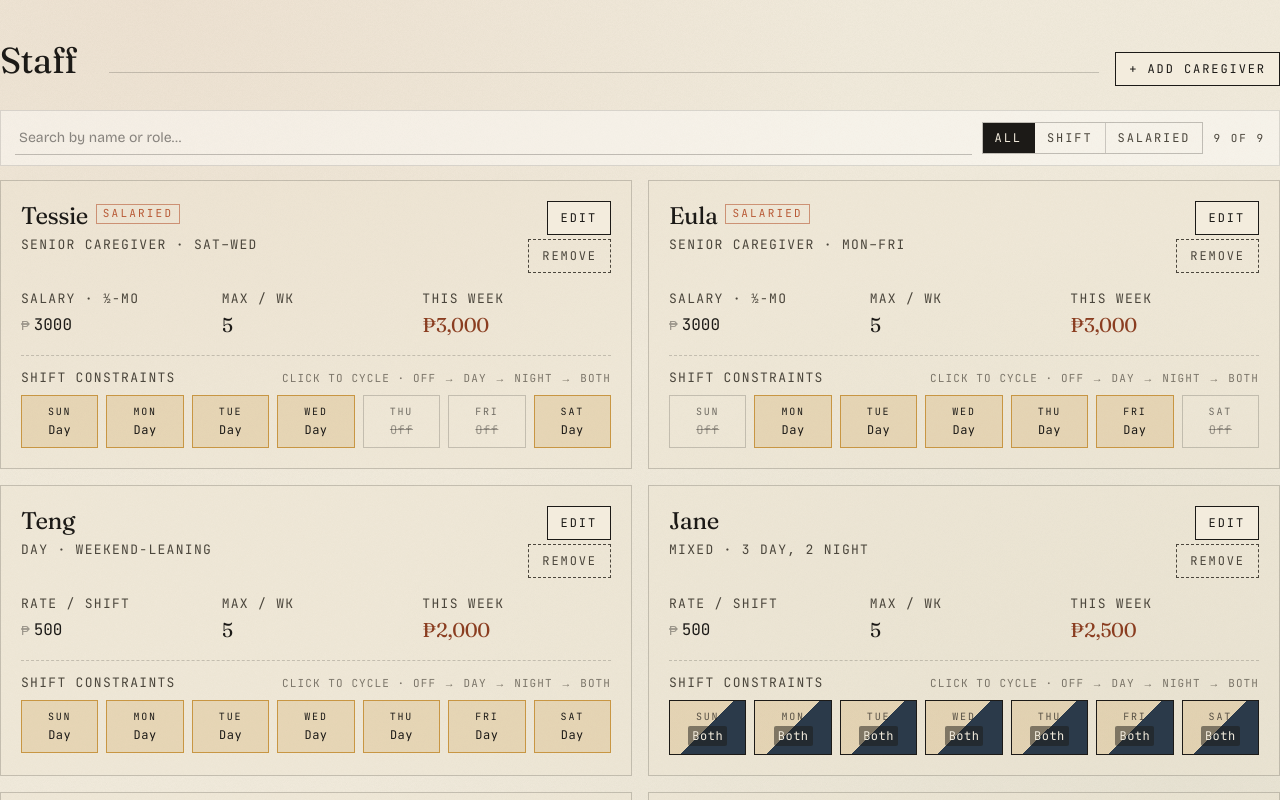
Test: <StaffPanel /> › clicking + add caregiver opens the modal
The width and height of the screenshot is (1280, 800).
Click the button "+ add caregiver": (1198, 69) top-left (1115, 52), bottom-right (1279, 86)
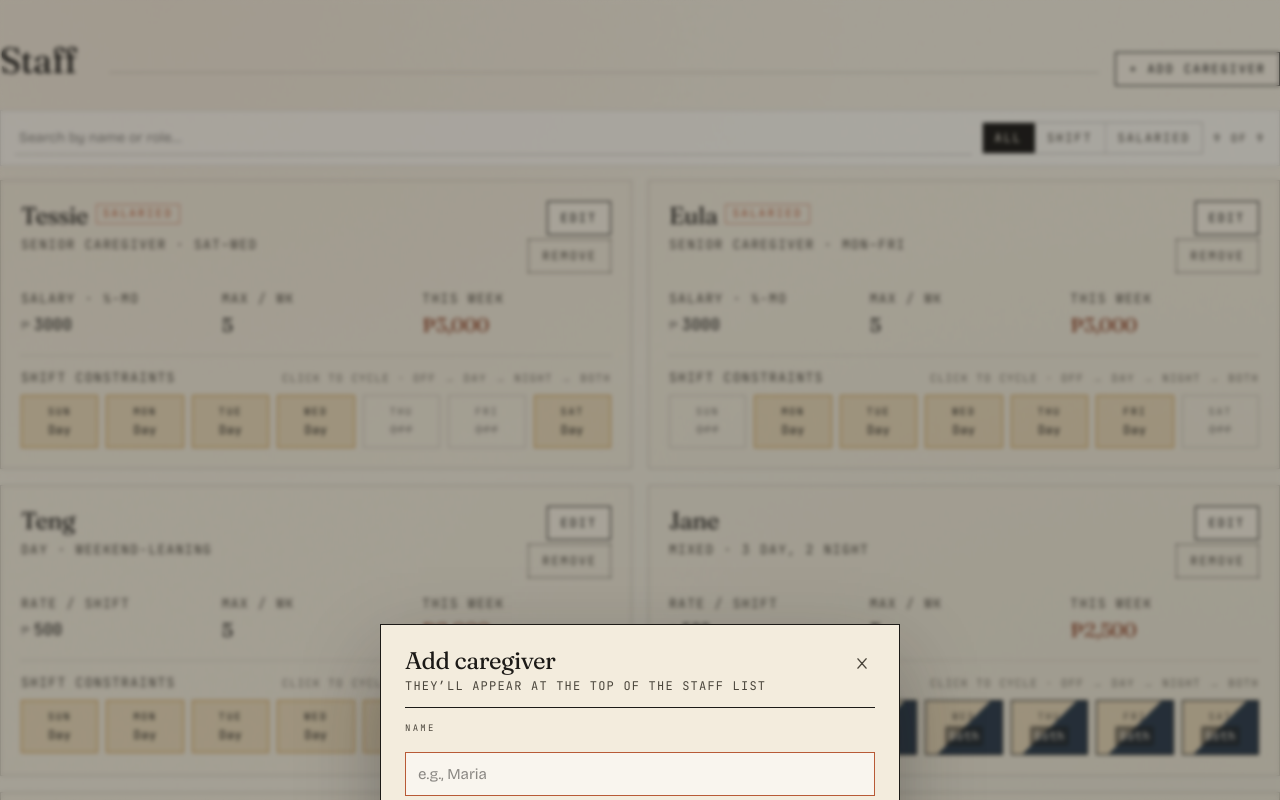
expect the text "Add caregiver" is shown: met, box top-left (405, 646), bottom-right (556, 675)
expect the field with placeholder "e.g., Maria" is shown: met, box top-left (405, 752), bottom-right (875, 796)
